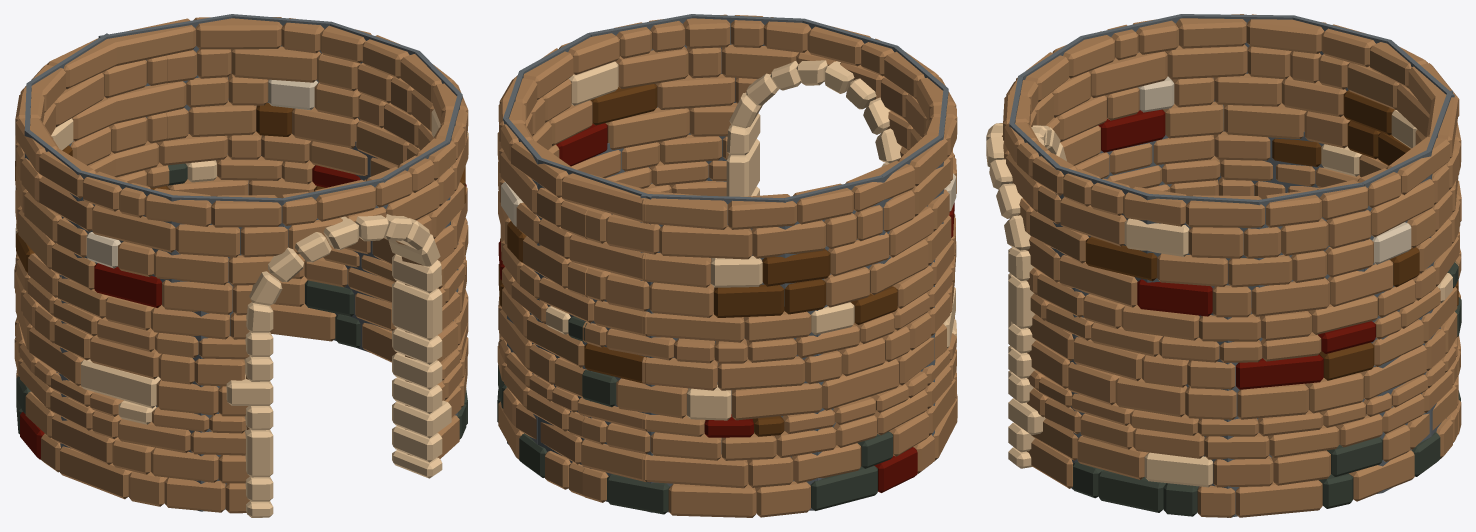
Rendered from base-section-with-doorway.glb.
3 views of the same model, side by side, from view 1: azimuth 30°, elevation 25°; view 2: azimuth 150°, elevation 25°; view 3: azimuth 270°, elevation 25° (orthographic).
Visible parts, largest first — view 1: main-wall.285, doorframe, grout-wall; view 2: main-wall.285, grout-wall, doorframe; view 3: main-wall.285, grout-wall, doorframe.
Part boxes in pixels (x1,y1,x2,y2): main-wall.285: (14,17,468,513); doorframe: (226,214,451,517); grout-wall: (24,14,462,511); main-wall.285: (497,14,957,517); grout-wall: (503,14,948,512); doorframe: (726,60,901,196); main-wall.285: (1002,14,1461,517); grout-wall: (1009,14,1454,517); doorframe: (986,123,1066,468).
Size of the model in its own units: 2 by 1.51 by 2.07.
